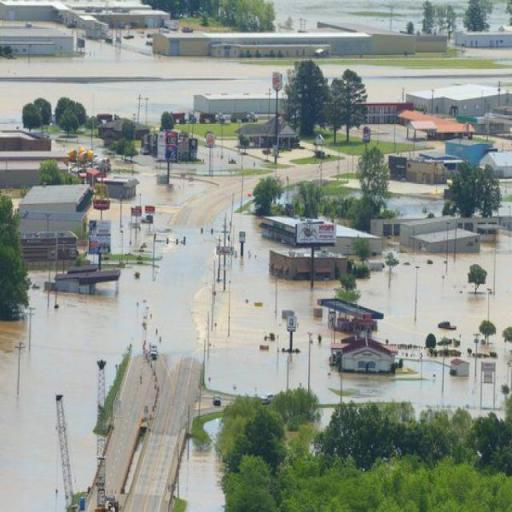flood: (0, 166, 341, 512), (343, 234, 512, 412), (0, 31, 292, 126), (317, 49, 512, 102), (273, 0, 425, 32), (177, 420, 225, 512), (432, 0, 468, 28), (490, 0, 510, 30)
house: (152, 30, 370, 58), (19, 184, 91, 231), (408, 84, 512, 114), (373, 218, 499, 240), (270, 248, 348, 277), (334, 336, 395, 370), (191, 92, 275, 115), (0, 28, 74, 52), (240, 118, 295, 149), (98, 117, 149, 140), (0, 129, 52, 151), (361, 102, 412, 123), (445, 138, 492, 160), (457, 30, 512, 48), (482, 152, 512, 176)
